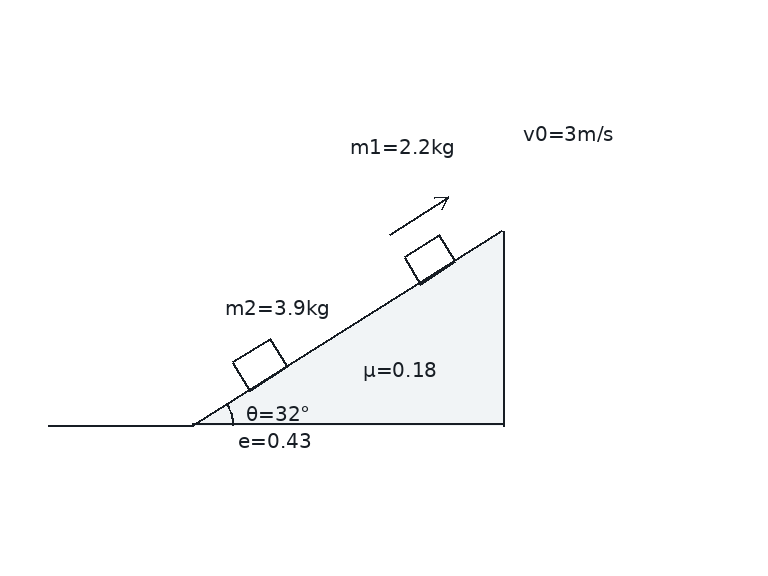block: (230, 337, 289, 392), (402, 233, 457, 285)
ramp: (191, 230, 505, 427)
